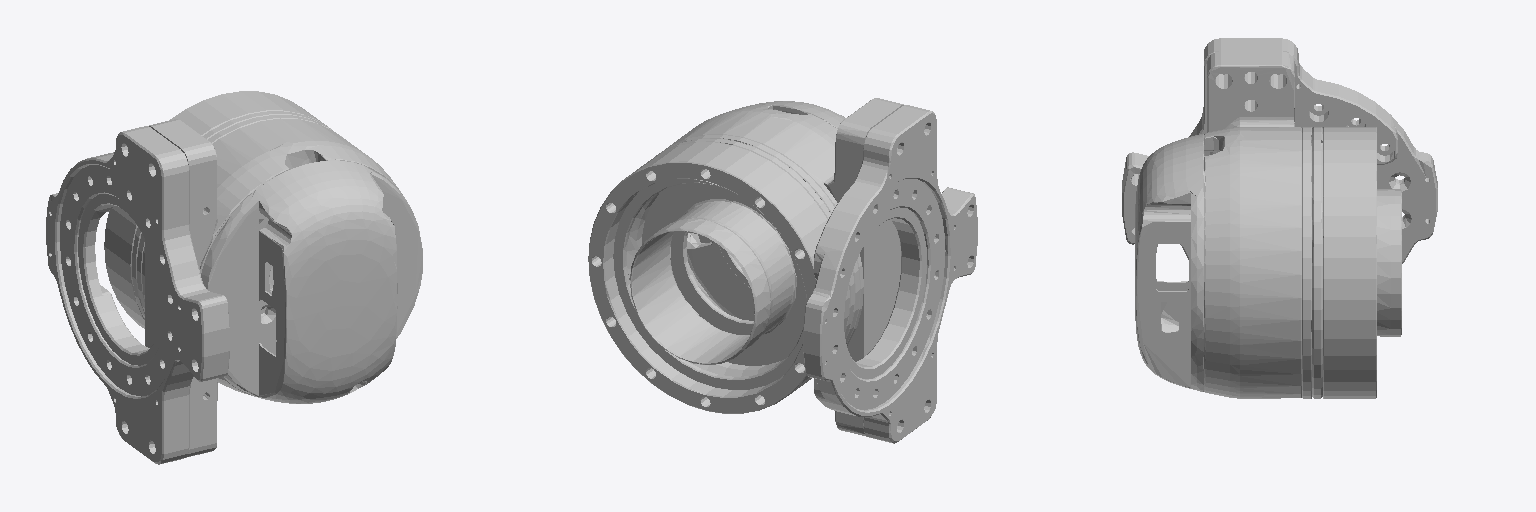
Rendered from right_thigh_roll_link.obj.
3 renders of one model, left to right at view 1: azimuth 30°, elevation 25°; view 2: azimuth 150°, elevation 25°; view 3: azimuth 270°, elevation 25°, orthographic.
Parts seen in each view (by area): view 1: right_thigh_roll_link; view 2: right_thigh_roll_link; view 3: right_thigh_roll_link.
Boxes of the visible parts, x1,y1,x2,y2 form: right_thigh_roll_link: [46, 91, 422, 464]; right_thigh_roll_link: [588, 98, 977, 443]; right_thigh_roll_link: [1122, 38, 1437, 398].
Size of the model in its own units: 0.0895 by 0.1 by 0.0927.